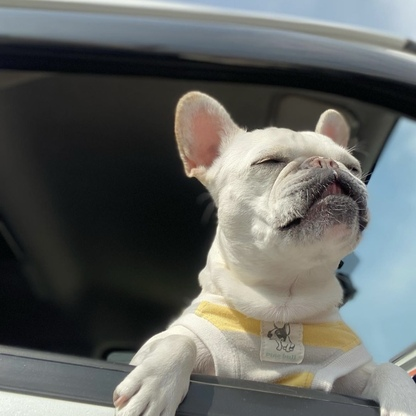bulldog: (161, 90, 376, 330)
